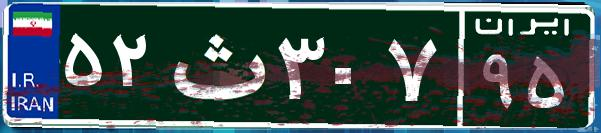0: (330, 28, 385, 110)
2: (110, 28, 158, 105)
3: (273, 28, 330, 110)
5: (57, 26, 110, 107), (525, 38, 570, 115)
7: (385, 28, 445, 110)
9: (475, 38, 525, 113)
ث: (158, 15, 273, 115)
